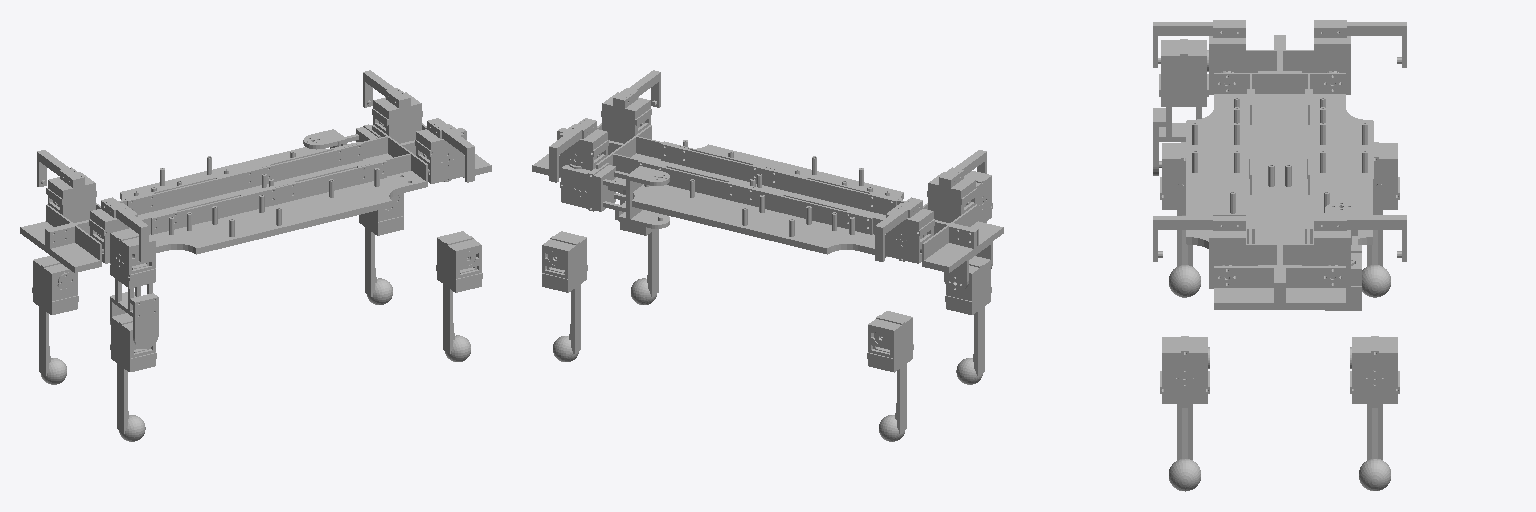
The robot description file, URDF, robot "Harold_URDF_Export_2":
<?xml version="1.0" encoding="utf-8"?>
<!-- This URDF was automatically created by SolidWorks to URDF Exporter! Originally created by [author] ([email redacted]) 
     Commit Version: 1.6.0-4-g7f85cfe  Build Version: 1.6.7995.38578
     For more information, please see http://wiki.ros.org/sw_urdf_exporter -->
<robot
  name="Harold_URDF_Export_2">
  <link
    name="Body">
    <inertial>
      <origin
        xyz="-0.000505711047275829 -3.92059868626698E-05 0.00655594728550839"
        rpy="0 0 0" />
      <mass
        value="0.655160642240757" />
      <inertia
        ixx="0.000449253338198346"
        ixy="5.00745245411663E-20"
        ixz="-5.96384763775092E-06"
        iyy="0.000956121106102527"
        iyz="1.68220612488198E-21"
        izz="0.00135243908262136" />
    </inertial>
    <visual>
      <origin
        xyz="0 0 0"
        rpy="0 0 0" />
      <geometry>
        <mesh
          filename="package://Harold_URDF_Export_2/meshes/Body.STL" />
      </geometry>
      <material
        name="">
        <color
          rgba="0.752941176470588 0.752941176470588 0.752941176470588 1" />
      </material>
    </visual>
    <collision>
      <origin
        xyz="0 0 0"
        rpy="0 0 0" />
      <geometry>
        <mesh
          filename="package://Harold_URDF_Export_2/meshes/Body.STL" />
      </geometry>
    </collision>
  </link>
  <link
    name="fl_shoulder">
    <inertial>
      <origin
        xyz="-0.0226268804239233 0.016723144813423 0.00308978788806343"
        rpy="0 0 0" />
      <mass
        value="0.0776965557993418" />
      <inertia
        ixx="2.79526765081768E-05"
        ixy="3.29296835160004E-07"
        ixz="-3.38551705773394E-08"
        iyy="2.03318316394635E-05"
        iyz="7.98874235426904E-07"
        izz="2.60079742804999E-05" />
    </inertial>
    <visual>
      <origin
        xyz="0 0 0"
        rpy="0 0 0" />
      <geometry>
        <mesh
          filename="package://Harold_URDF_Export_2/meshes/fl_shoulder.STL" />
      </geometry>
      <material
        name="">
        <color
          rgba="0.752941176470588 0.752941176470588 0.752941176470588 1" />
      </material>
    </visual>
    <collision>
      <origin
        xyz="0 0 0"
        rpy="0 0 0" />
      <geometry>
        <mesh
          filename="package://Harold_URDF_Export_2/meshes/fl_shoulder.STL" />
      </geometry>
    </collision>
  </link>
  <joint
    name="fl_shoulder_joint"
    type="revolute">
    <origin
      xyz="-0.185 -0.04805 0.0175"
      rpy="1.5708 0 0" />
    <parent
      link="Body" />
    <child
      link="fl_shoulder" />
    <axis
      xyz="1 0 0" />
    <limit
      lower="0"
      upper="0"
      effort="0"
      velocity="0" />
  </joint>
  <link
    name="fl_thigh">
    <inertial>
      <origin
        xyz="0.00156528908759818 -0.0302869631953187 0.0293750339010572"
        rpy="0 0 0" />
      <mass
        value="0.0916515025957821" />
      <inertia
        ixx="7.00348282018166E-05"
        ixy="-3.01230962502561E-06"
        ixz="-4.36435773829808E-07"
        iyy="2.10701031177544E-05"
        iyz="-7.35240616345448E-06"
        izz="6.11778473451459E-05" />
    </inertial>
    <visual>
      <origin
        xyz="0 0 0"
        rpy="0 0 0" />
      <geometry>
        <mesh
          filename="package://Harold_URDF_Export_2/meshes/fl_thigh.STL" />
      </geometry>
      <material
        name="">
        <color
          rgba="0.752941176470588 0.752941176470588 0.752941176470588 1" />
      </material>
    </visual>
    <collision>
      <origin
        xyz="0 0 0"
        rpy="0 0 0" />
      <geometry>
        <mesh
          filename="package://Harold_URDF_Export_2/meshes/fl_thigh.STL" />
      </geometry>
    </collision>
  </link>
  <joint
    name="fl_thigh_joint"
    type="revolute">
    <origin
      xyz="-0.023 0.011125 0.0101"
      rpy="0 0 0" />
    <parent
      link="fl_shoulder" />
    <child
      link="fl_thigh" />
    <axis
      xyz="0 0 1" />
    <limit
      lower="0"
      upper="0"
      effort="0"
      velocity="0" />
  </joint>
  <link
    name="fl_calf">
    <inertial>
      <origin
        xyz="-0.00237381613529589 -0.034445498616468 0.0226869436173489"
        rpy="0 0 0" />
      <mass
        value="0.0864459183664809" />
      <inertia
        ixx="0.000124573461358573"
        ixy="3.59480722131375E-06"
        ixz="3.33117687660539E-08"
        iyy="1.48777935696698E-05"
        iyz="4.24915357894344E-07"
        izz="0.000119866124097028" />
    </inertial>
    <visual>
      <origin
        xyz="0 0 0"
        rpy="0 0 0" />
      <geometry>
        <mesh
          filename="package://Harold_URDF_Export_2/meshes/fl_calf.STL" />
      </geometry>
      <material
        name="">
        <color
          rgba="0.752941176470588 0.752941176470588 0.752941176470588 1" />
      </material>
    </visual>
    <collision>
      <origin
        xyz="0 0 0"
        rpy="0 0 0" />
      <geometry>
        <mesh
          filename="package://Harold_URDF_Export_2/meshes/fl_calf.STL" />
      </geometry>
    </collision>
  </link>
  <joint
    name="fl_calf_joint"
    type="revolute">
    <origin
      xyz="0.00249999999999997 -0.102875 0.00500000000000111"
      rpy="0 0 0" />
    <parent
      link="fl_thigh" />
    <child
      link="fl_calf" />
    <axis
      xyz="0 0 1" />
    <limit
      lower="0"
      upper="0"
      effort="0"
      velocity="0" />
  </joint>
  <link
    name="fr_shoulder">
    <inertial>
      <origin
        xyz="-0.022652843501191 0.016723144813423 -0.00308978788806342"
        rpy="0 0 0" />
      <mass
        value="0.0776965557993418" />
      <inertia
        ixx="2.79526765081768E-05"
        ixy="3.2929683516E-07"
        ixz="3.38551705773375E-08"
        iyy="2.03318316394635E-05"
        iyz="-7.9887423542691E-07"
        izz="2.60079742804999E-05" />
    </inertial>
    <visual>
      <origin
        xyz="0 0 0"
        rpy="0 0 0" />
      <geometry>
        <mesh
          filename="package://Harold_URDF_Export_2/meshes/fr_shoulder.STL" />
      </geometry>
      <material
        name="">
        <color
          rgba="0.752941176470588 0.752941176470588 0.752941176470588 1" />
      </material>
    </visual>
    <collision>
      <origin
        xyz="0 0 0"
        rpy="0 0 0" />
      <geometry>
        <mesh
          filename="package://Harold_URDF_Export_2/meshes/fr_shoulder.STL" />
      </geometry>
    </collision>
  </link>
  <joint
    name="fr_shoulder_joint"
    type="revolute">
    <origin
      xyz="-0.185 0.04795 0.0175"
      rpy="1.5708 0 0" />
    <parent
      link="Body" />
    <child
      link="fr_shoulder" />
    <axis
      xyz="1 0 0" />
    <limit
      lower="0"
      upper="0"
      effort="0"
      velocity="0" />
  </joint>
  <link
    name="fr_thigh">
    <inertial>
      <origin
        xyz="0.00156528908759818 -0.0302869631953186 -0.0293750339010572"
        rpy="0 0 0" />
      <mass
        value="0.0916515025957821" />
      <inertia
        ixx="7.00348282018166E-05"
        ixy="-3.01230962502561E-06"
        ixz="4.3643577382981E-07"
        iyy="2.10701031177544E-05"
        iyz="7.35240616345446E-06"
        izz="6.11778473451459E-05" />
    </inertial>
    <visual>
      <origin
        xyz="0 0 0"
        rpy="0 0 0" />
      <geometry>
        <mesh
          filename="package://Harold_URDF_Export_2/meshes/fr_thigh.STL" />
      </geometry>
      <material
        name="">
        <color
          rgba="0.752941176470588 0.752941176470588 0.752941176470588 1" />
      </material>
    </visual>
    <collision>
      <origin
        xyz="0 0 0"
        rpy="0 0 0" />
      <geometry>
        <mesh
          filename="package://Harold_URDF_Export_2/meshes/fr_thigh.STL" />
      </geometry>
    </collision>
  </link>
  <joint
    name="fr_thigh_joint"
    type="revolute">
    <origin
      xyz="-0.0232000000000001 0.011125 -0.0100999999999999"
      rpy="0 0 0" />
    <parent
      link="fr_shoulder" />
    <child
      link="fr_thigh" />
    <axis
      xyz="0 0 1" />
    <limit
      lower="0"
      upper="0"
      effort="0"
      velocity="0" />
  </joint>
  <link
    name="fr_calf">
    <inertial>
      <origin
        xyz="-0.00237381613529575 -0.0344454986164687 -0.0226869436158008"
        rpy="0 0 0" />
      <mass
        value="0.0864459183664809" />
      <inertia
        ixx="0.000124573461358558"
        ixy="3.59480722131375E-06"
        ixz="-3.33117693448154E-08"
        iyy="1.48777935696553E-05"
        iyz="-4.24915350292373E-07"
        izz="0.000119866124097028" />
    </inertial>
    <visual>
      <origin
        xyz="0 0 0"
        rpy="0 0 0" />
      <geometry>
        <mesh
          filename="package://Harold_URDF_Export_2/meshes/fr_calf.STL" />
      </geometry>
      <material
        name="">
        <color
          rgba="0.752941176470588 0.752941176470588 0.752941176470588 1" />
      </material>
    </visual>
    <collision>
      <origin
        xyz="0 0 0"
        rpy="0 0 0" />
      <geometry>
        <mesh
          filename="package://Harold_URDF_Export_2/meshes/fr_calf.STL" />
      </geometry>
    </collision>
  </link>
  <joint
    name="fr_calf_joint"
    type="revolute">
    <origin
      xyz="0.0025 -0.102875 -0.00500000000000027"
      rpy="0 0 0" />
    <parent
      link="fr_thigh" />
    <child
      link="fr_calf" />
    <axis
      xyz="0 0 1" />
    <limit
      lower="0"
      upper="0"
      effort="0"
      velocity="0" />
  </joint>
  <link
    name="bl_shoulder">
    <inertial>
      <origin
        xyz="0.0229731195760768 0.016723144813423 0.00308978788806344"
        rpy="0 0 0" />
      <mass
        value="0.0776965557993418" />
      <inertia
        ixx="2.79526765081768E-05"
        ixy="3.29296835160004E-07"
        ixz="-3.38551705773392E-08"
        iyy="2.03318316394635E-05"
        iyz="7.98874235426902E-07"
        izz="2.60079742804999E-05" />
    </inertial>
    <visual>
      <origin
        xyz="0 0 0"
        rpy="0 0 0" />
      <geometry>
        <mesh
          filename="package://Harold_URDF_Export_2/meshes/bl_shoulder.STL" />
      </geometry>
      <material
        name="">
        <color
          rgba="0.752941176470588 0.752941176470588 0.752941176470588 1" />
      </material>
    </visual>
    <collision>
      <origin
        xyz="0 0 0"
        rpy="0 0 0" />
      <geometry>
        <mesh
          filename="package://Harold_URDF_Export_2/meshes/bl_shoulder.STL" />
      </geometry>
    </collision>
  </link>
  <joint
    name="bl_shoulder_joint"
    type="revolute">
    <origin
      xyz="0.1854 -0.048 0.0175"
      rpy="1.5708 0 0" />
    <parent
      link="Body" />
    <child
      link="bl_shoulder" />
    <axis
      xyz="1 0 0" />
    <limit
      lower="0"
      upper="0"
      effort="0"
      velocity="0" />
  </joint>
  <link
    name="bl_thigh">
    <inertial>
      <origin
        xyz="0.00156528908759815 -0.0302869631953187 0.0293750339010572"
        rpy="0 0 0" />
      <mass
        value="0.0916515025957821" />
      <inertia
        ixx="7.00348282018166E-05"
        ixy="-3.01230962502561E-06"
        ixz="-4.36435773829808E-07"
        iyy="2.10701031177544E-05"
        iyz="-7.35240616345447E-06"
        izz="6.11778473451459E-05" />
    </inertial>
    <visual>
      <origin
        xyz="0 0 0"
        rpy="0 0 0" />
      <geometry>
        <mesh
          filename="package://Harold_URDF_Export_2/meshes/bl_thigh.STL" />
      </geometry>
      <material
        name="">
        <color
          rgba="0.752941176470588 0.752941176470588 0.752941176470588 1" />
      </material>
    </visual>
    <collision>
      <origin
        xyz="0 0 0"
        rpy="0 0 0" />
      <geometry>
        <mesh
          filename="package://Harold_URDF_Export_2/meshes/bl_thigh.STL" />
      </geometry>
    </collision>
  </link>
  <joint
    name="bl_thigh_joint"
    type="revolute">
    <origin
      xyz="0.0226 0.011125 0.0101"
      rpy="0 0 0" />
    <parent
      link="bl_shoulder" />
    <child
      link="bl_thigh" />
    <axis
      xyz="0 0 1" />
    <limit
      lower="0"
      upper="0"
      effort="0"
      velocity="0" />
  </joint>
  <link
    name="bl_calf">
    <inertial>
      <origin
        xyz="-0.00237381613529594 -0.0344454986164687 0.0226869436173489"
        rpy="0 0 0" />
      <mass
        value="0.086445918366481" />
      <inertia
        ixx="0.000124573461358573"
        ixy="3.59480722131374E-06"
        ixz="3.33117687660544E-08"
        iyy="1.48777935696698E-05"
        iyz="4.24915357894347E-07"
        izz="0.000119866124097028" />
    </inertial>
    <visual>
      <origin
        xyz="0 0 0"
        rpy="0 0 0" />
      <geometry>
        <mesh
          filename="package://Harold_URDF_Export_2/meshes/bl_calf.STL" />
      </geometry>
      <material
        name="">
        <color
          rgba="0.752941176470588 0.752941176470588 0.752941176470588 1" />
      </material>
    </visual>
    <collision>
      <origin
        xyz="0 0 0"
        rpy="0 0 0" />
      <geometry>
        <mesh
          filename="package://Harold_URDF_Export_2/meshes/bl_calf.STL" />
      </geometry>
    </collision>
  </link>
  <joint
    name="bl_calf_joint"
    type="revolute">
    <origin
      xyz="0.00249999999999997 -0.102875 0.00500000000000127"
      rpy="0 0 0" />
    <parent
      link="bl_thigh" />
    <child
      link="bl_calf" />
    <axis
      xyz="0 0 1" />
    <limit
      lower="0"
      upper="0"
      effort="0"
      velocity="0" />
  </joint>
  <link
    name="br_shoulder">
    <inertial>
      <origin
        xyz="0.0229471564988091 0.016723144813423 -0.00308978788806342"
        rpy="0 0 0" />
      <mass
        value="0.0776965557993418" />
      <inertia
        ixx="2.79526765081768E-05"
        ixy="3.2929683516E-07"
        ixz="3.38551705773374E-08"
        iyy="2.03318316394635E-05"
        iyz="-7.98874235426905E-07"
        izz="2.60079742804999E-05" />
    </inertial>
    <visual>
      <origin
        xyz="0 0 0"
        rpy="0 0 0" />
      <geometry>
        <mesh
          filename="package://Harold_URDF_Export_2/meshes/br_shoulder.STL" />
      </geometry>
      <material
        name="">
        <color
          rgba="0.752941176470588 0.752941176470588 0.752941176470588 1" />
      </material>
    </visual>
    <collision>
      <origin
        xyz="0 0 0"
        rpy="0 0 0" />
      <geometry>
        <mesh
          filename="package://Harold_URDF_Export_2/meshes/br_shoulder.STL" />
      </geometry>
    </collision>
  </link>
  <joint
    name="br_shoulder_joint"
    type="revolute">
    <origin
      xyz="0.185399999999999 0.048 0.0175"
      rpy="1.5707963267949 0 0" />
    <parent
      link="Body" />
    <child
      link="br_shoulder" />
    <axis
      xyz="1 0 0" />
    <limit
      lower="0"
      upper="0"
      effort="0"
      velocity="0" />
  </joint>
  <link
    name="br_thigh">
    <inertial>
      <origin
        xyz="0.00156528908759818 -0.0302869631953186 -0.0293750339010572"
        rpy="0 0 0" />
      <mass
        value="0.0916515025957821" />
      <inertia
        ixx="7.00348282018167E-05"
        ixy="-3.01230962502561E-06"
        ixz="4.36435773829805E-07"
        iyy="2.10701031177544E-05"
        iyz="7.35240616345446E-06"
        izz="6.11778473451459E-05" />
    </inertial>
    <visual>
      <origin
        xyz="0 0 0"
        rpy="0 0 0" />
      <geometry>
        <mesh
          filename="package://Harold_URDF_Export_2/meshes/br_thigh.STL" />
      </geometry>
      <material
        name="">
        <color
          rgba="0.752941176470588 0.752941176470588 0.752941176470588 1" />
      </material>
    </visual>
    <collision>
      <origin
        xyz="0 0 0"
        rpy="0 0 0" />
      <geometry>
        <mesh
          filename="package://Harold_URDF_Export_2/meshes/br_thigh.STL" />
      </geometry>
    </collision>
  </link>
  <joint
    name="br_thigh_joint"
    type="revolute">
    <origin
      xyz="0.0224 0.011125 -0.0101"
      rpy="0 0 0" />
    <parent
      link="br_shoulder" />
    <child
      link="br_thigh" />
    <axis
      xyz="0 0 1" />
    <limit
      lower="0"
      upper="0"
      effort="0"
      velocity="0" />
  </joint>
  <link
    name="br_calf">
    <inertial>
      <origin
        xyz="-0.00237381613529569 -0.034445498616468 -0.0226869436158008"
        rpy="0 0 0" />
      <mass
        value="0.0864459183664809" />
      <inertia
        ixx="0.000124573461358558"
        ixy="3.59480722131374E-06"
        ixz="-3.33117693448153E-08"
        iyy="1.48777935696553E-05"
        iyz="-4.24915350292373E-07"
        izz="0.000119866124097028" />
    </inertial>
    <visual>
      <origin
        xyz="0 0 0"
        rpy="0 0 0" />
      <geometry>
        <mesh
          filename="package://Harold_URDF_Export_2/meshes/br_calf.STL" />
      </geometry>
      <material
        name="">
        <color
          rgba="0.752941176470588 0.752941176470588 0.752941176470588 1" />
      </material>
    </visual>
    <collision>
      <origin
        xyz="0 0 0"
        rpy="0 0 0" />
      <geometry>
        <mesh
          filename="package://Harold_URDF_Export_2/meshes/br_calf.STL" />
      </geometry>
    </collision>
  </link>
  <joint
    name="br_calf_joint"
    type="revolute">
    <origin
      xyz="0.0025 -0.102875 -0.00500000000000039"
      rpy="0 0 0" />
    <parent
      link="br_thigh" />
    <child
      link="br_calf" />
    <axis
      xyz="0 0 1" />
    <limit
      lower="0"
      upper="0"
      effort="0"
      velocity="0" />
  </joint>
</robot>

--- What the picture shows (computed from the rendered views, not written in the file) ---
The picture shows the robot from 3 angles, left to right: view 1: azimuth 30°, elevation 25°; view 2: azimuth 150°, elevation 25°; view 3: azimuth 270°, elevation 25°; orthographic projection.
Robot: Harold_URDF_Export_2 — 13 links, 12 joints (12 revolute); root link Body; default pose: every joint at zero.
Links seen in each view (by area): view 1: Body, fl_thigh, bl_calf, fr_calf, bl_shoulder, fl_calf, br_shoulder, fr_shoulder, br_calf, fl_shoulder, br_thigh; view 2: Body, br_thigh, fr_calf, br_calf, fr_shoulder, fl_calf, bl_shoulder, fl_shoulder, br_shoulder, fl_thigh, bl_calf; view 3: Body, bl_calf, br_calf, fl_thigh, br_shoulder, fr_shoulder, fl_shoulder, bl_shoulder, fl_calf, fr_calf, br_thigh.
Boxes of the visible links, x1=… form: Body: x1=20, y1=123, x2=491, y2=272; fl_thigh: x1=110, y1=228, x2=158, y2=348; bl_calf: x1=436, y1=231, x2=482, y2=361; fr_calf: x1=32, y1=256, x2=78, y2=384; bl_shoulder: x1=415, y1=118, x2=474, y2=183; fl_calf: x1=110, y1=313, x2=156, y2=441; br_shoulder: x1=363, y1=70, x2=422, y2=143; fr_shoulder: x1=37, y1=150, x2=96, y2=222; br_calf: x1=359, y1=193, x2=403, y2=304; fl_shoulder: x1=89, y1=197, x2=148, y2=263; br_thigh: x1=303, y1=124, x2=380, y2=149; Body: x1=532, y1=123, x2=1003, y2=272; br_thigh: x1=560, y1=163, x2=669, y2=228; fr_calf: x1=867, y1=311, x2=913, y2=441; br_calf: x1=542, y1=231, x2=587, y2=361; fr_shoulder: x1=875, y1=197, x2=934, y2=263; fl_calf: x1=945, y1=256, x2=991, y2=384; bl_shoulder: x1=601, y1=70, x2=660, y2=143; fl_shoulder: x1=927, y1=150, x2=986, y2=222; br_shoulder: x1=549, y1=118, x2=608, y2=182; fl_thigh: x1=944, y1=171, x2=992, y2=291; bl_calf: x1=619, y1=193, x2=658, y2=304; Body: x1=1186, y1=35, x2=1373, y2=309; bl_calf: x1=1160, y1=336, x2=1209, y2=491; br_calf: x1=1350, y1=336, x2=1399, y2=490; fl_thigh: x1=1153, y1=39, x2=1208, y2=175; br_shoulder: x1=1314, y1=214, x2=1406, y2=288; fr_shoulder: x1=1314, y1=20, x2=1406, y2=94; fl_shoulder: x1=1153, y1=20, x2=1245, y2=94; bl_shoulder: x1=1153, y1=214, x2=1245, y2=288; fl_calf: x1=1160, y1=142, x2=1200, y2=297; fr_calf: x1=1362, y1=142, x2=1399, y2=297; br_thigh: x1=1325, y1=202, x2=1361, y2=310.
Bounding box of the posed robot: 0.532 × 0.2311 × 0.2724 m (x, y, z).
11 mesh visuals loaded from 13 distinct referenced files (11 binary STL); not drawn: 2 (reference not matched to a file when rendering).
